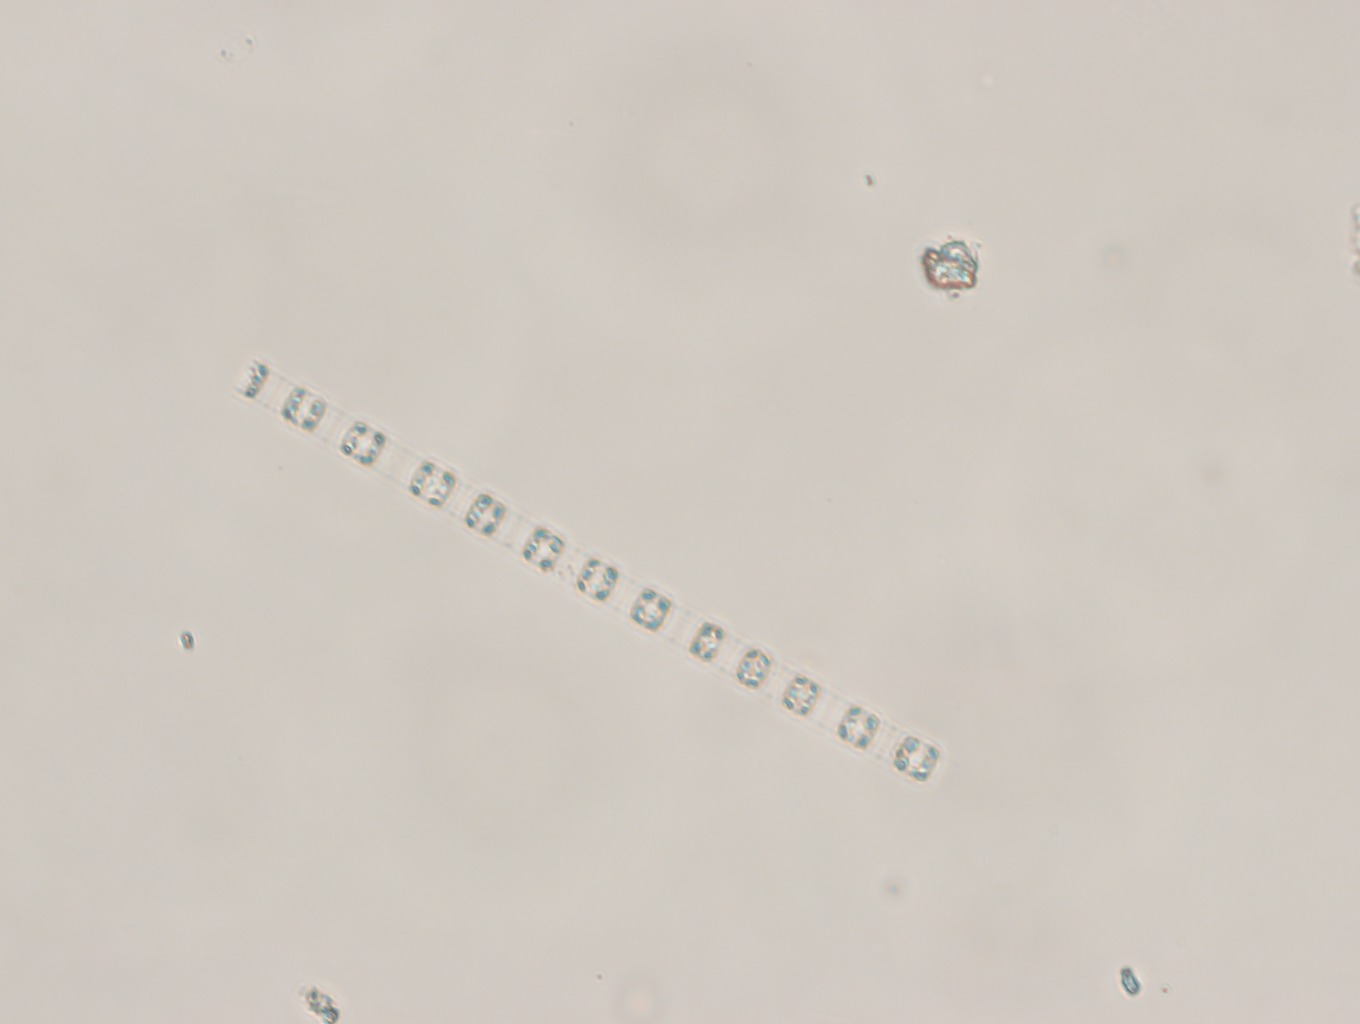skeletonema: (229, 346, 955, 793)
